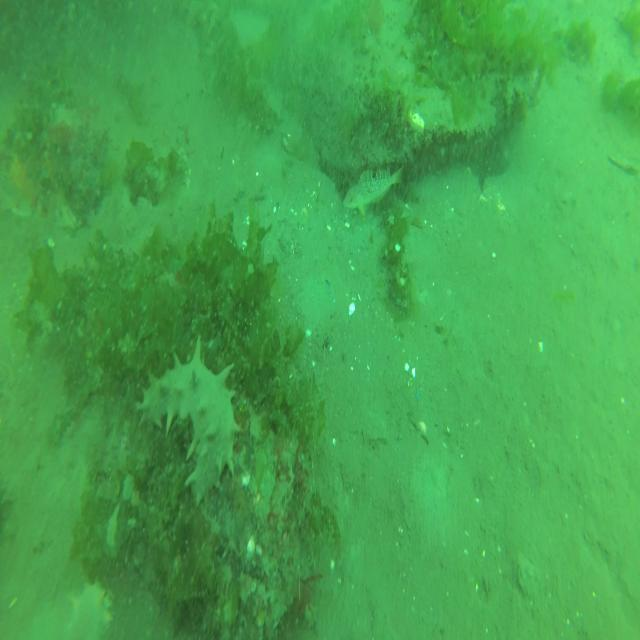holothurian: (135, 335, 241, 508)
scallop: (608, 155, 640, 177)
